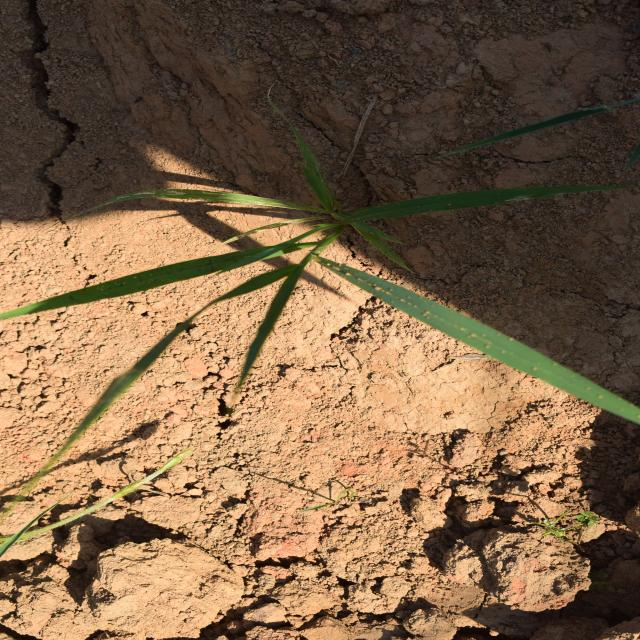green_foxtail: (205, 52, 480, 522)
